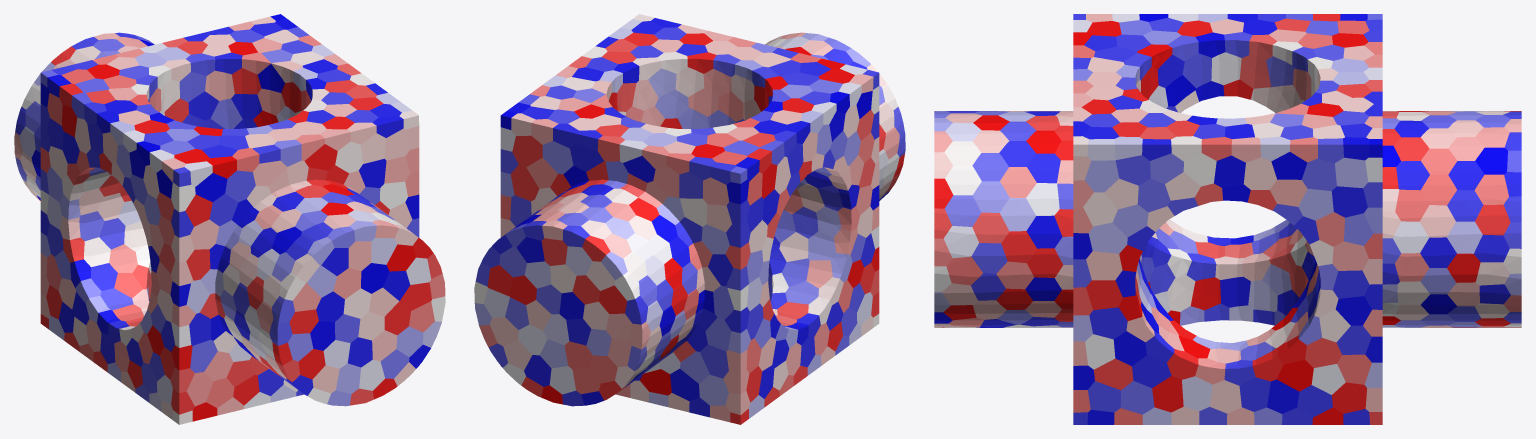
Rendered from Ours_1000_block_Iter39_RVD.obj.
3 renders of one model, left to right at view 1: azimuth 30°, elevation 25°; view 2: azimuth 150°, elevation 25°; view 3: azimuth 270°, elevation 25°, orthographic. The views are drawn at different scales.
Parts seen in each view (by area): view 1: 3D_Object; view 2: 3D_Object; view 3: 3D_Object.
Boxes of the visible parts, left/top/right/bottom form: 3D_Object: left=14, top=14, right=445, bottom=424; 3D_Object: left=474, top=14, right=905, bottom=424; 3D_Object: left=934, top=14, right=1521, bottom=424.
Size of the model in its own units: 20 by 20 by 38.
1 material, 1 textured.
